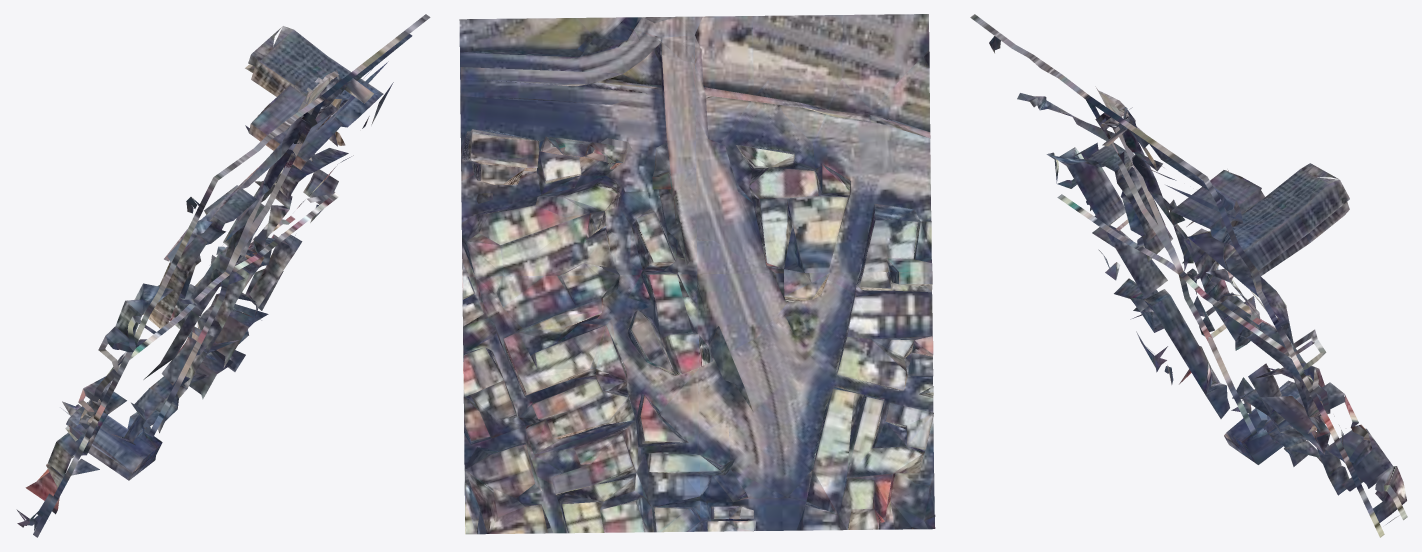
3 views of the same model, side by side, from view 1: azimuth 30°, elevation 25°; view 2: azimuth 150°, elevation 25°; view 3: azimuth 270°, elevation 25° (orthographic). The views are drawn at different scales.
Size of the model in its own units: 315 by 284 by 271.
1 material, 1 textured.
